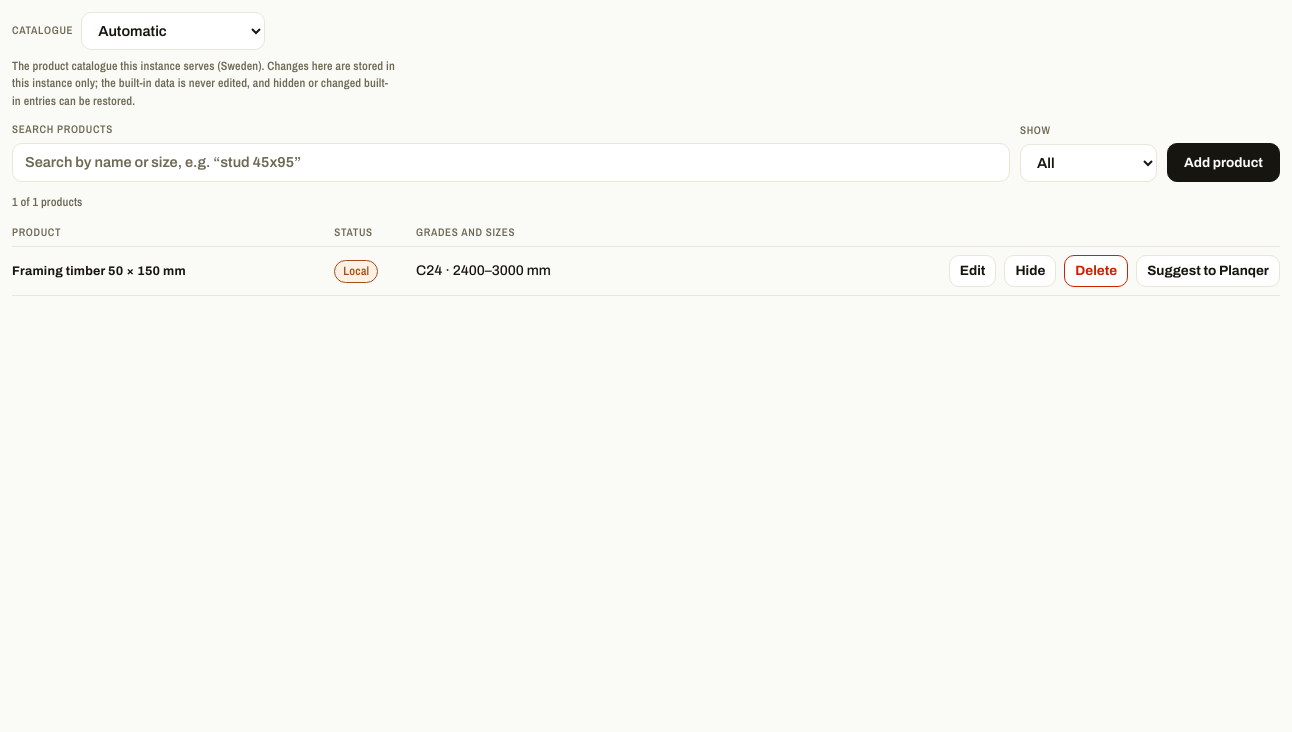
Scenario: AdminCatalogue › prepares the issue only once there is an https source
Expected: the text "Framing timber 50 × 150 mm" is shown, [12,247,334,296]
Click the button "Suggest to Planqer" at (1208, 271), box [1136,256,1280,287]
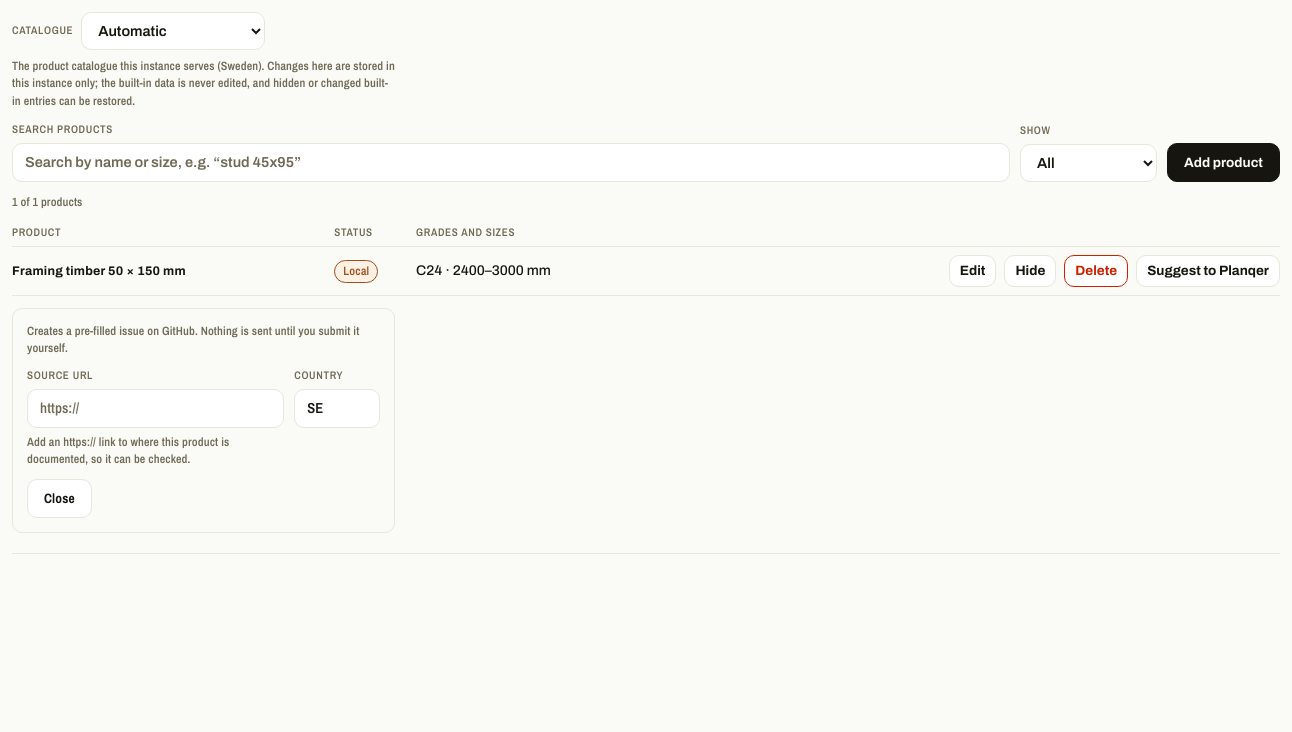
Expected: the text "Add an https:// link" is shown, [27,434,229,467]
Type "http://example.com/trall" into the field labelled "Source URL" at (156, 408), box [27,389,284,428]
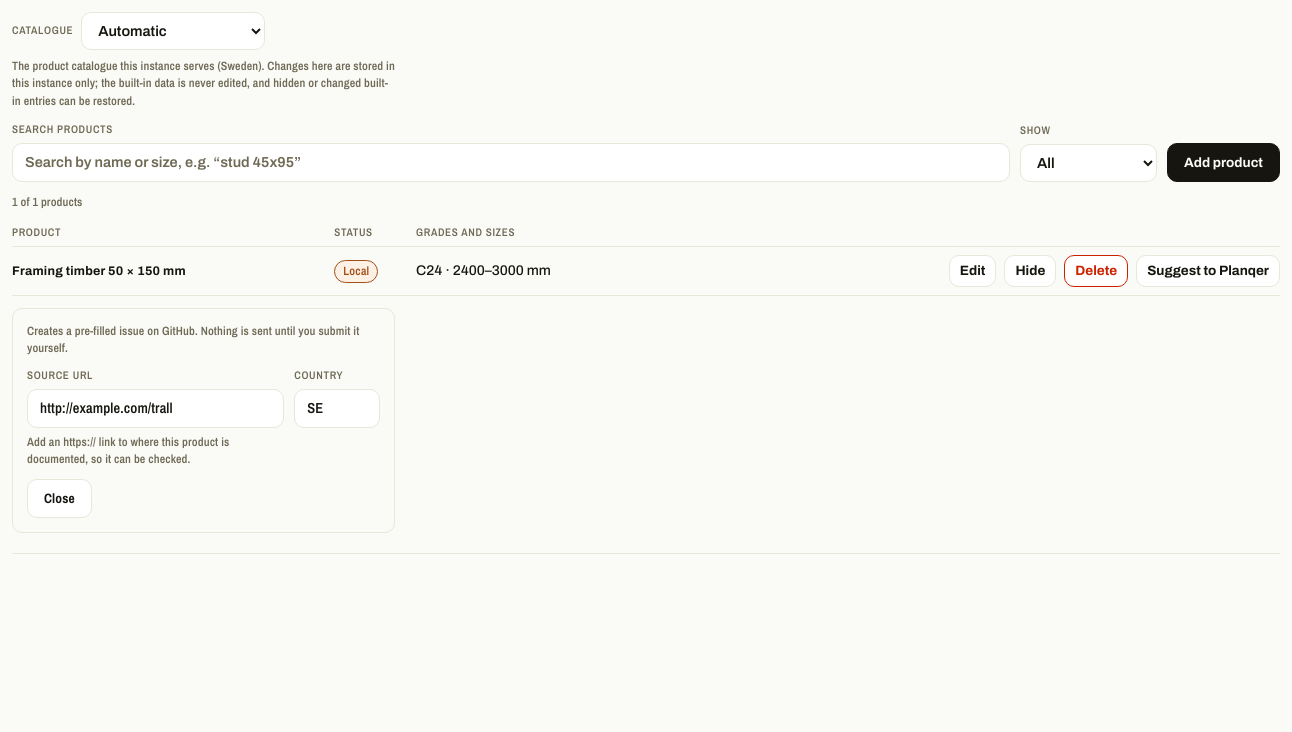
Expected: the link "Open on GitHub" is not shown
Replace the text in the field labelled "Source URL" with "https://example.com/trall" at (156, 408), box [27,389,284,428]
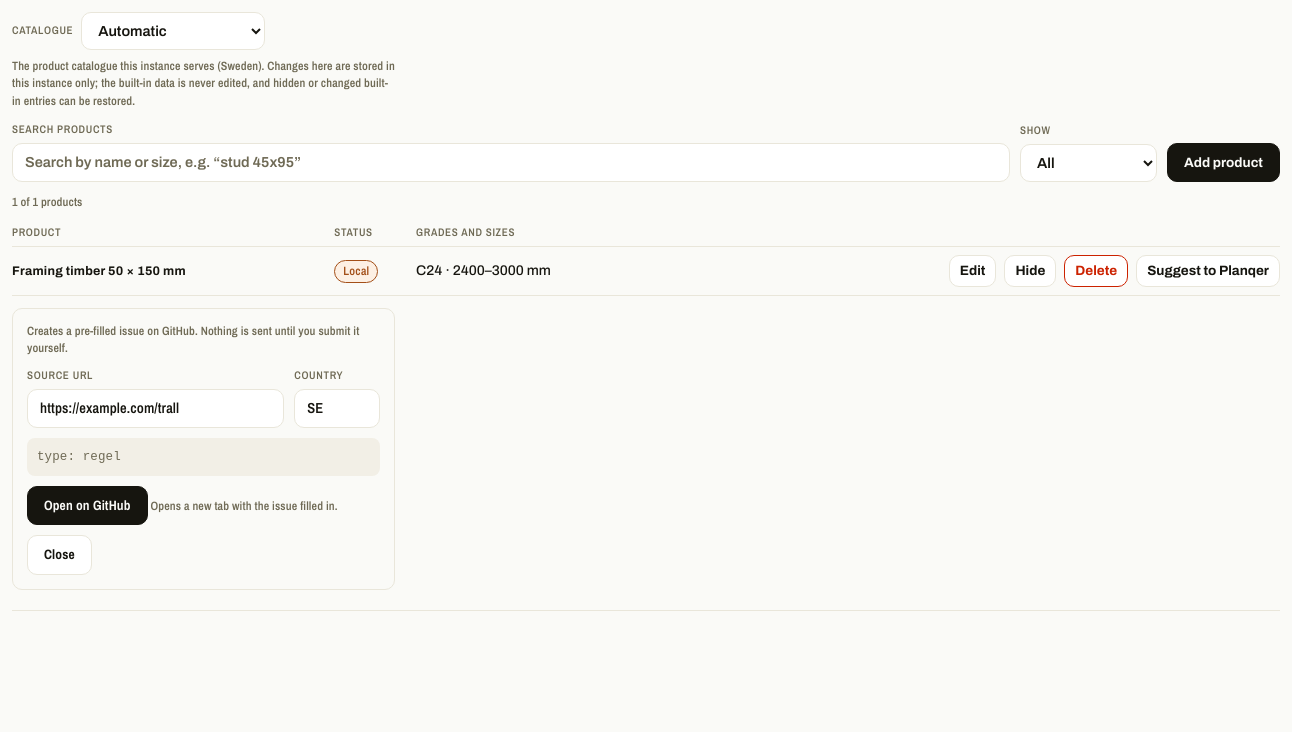
Expected: the text "Add an https:// link" is gone
Expected: the link "Open on GitHub" is shown, [27,486,148,526]
